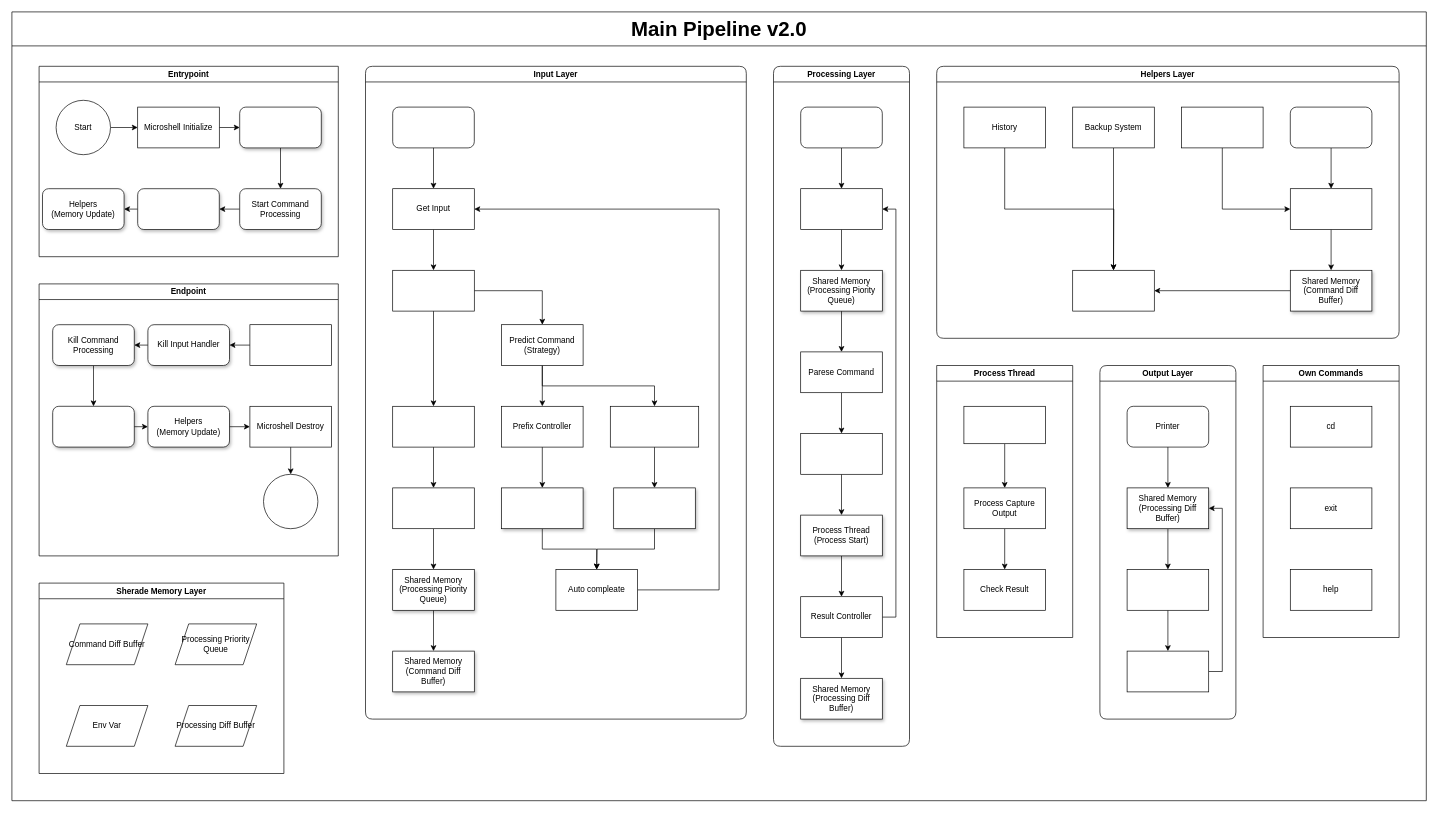
Image size: 1438x813. Some labels were removed from this diagram. Each missing label, with the centre of its shape:
"Add to Queue" belongs at point 433,508.
"Check Command Corectness" belongs at point 433,426.
"Command Thread Controller" belongs at point 841,209.
"Data I/O" belongs at point 1113,290.
"End" belongs at point 290,501.
"Helpers (Histroy)" belongs at point 654,509.
"Helpers (Prefix Array)" belongs at point 542,509.
"History Controller" belongs at point 654,426.
"Input Action (Strategy)" belongs at point 433,290.
"Input Handler" belongs at point 433,127.
"Kill Printer" belongs at point 93,427.
"Memory Updater" belongs at point 1331,127.
"Move Cursor" belongs at point 1167,589.
"Prefix Array" belongs at point 1222,127.
"Print In Terminal" belongs at point 1167,671.
"Process Start" belongs at point 1004,425.
"Processing" belongs at point 841,127.
"Run Process" belongs at point 841,453.
"Running State (Observer)" belongs at point 290,345.
"Start Input Handler" belongs at point 280,128.
"Start Printer" belongs at point 178,209.
"Update Files" belongs at point 1331,209.
